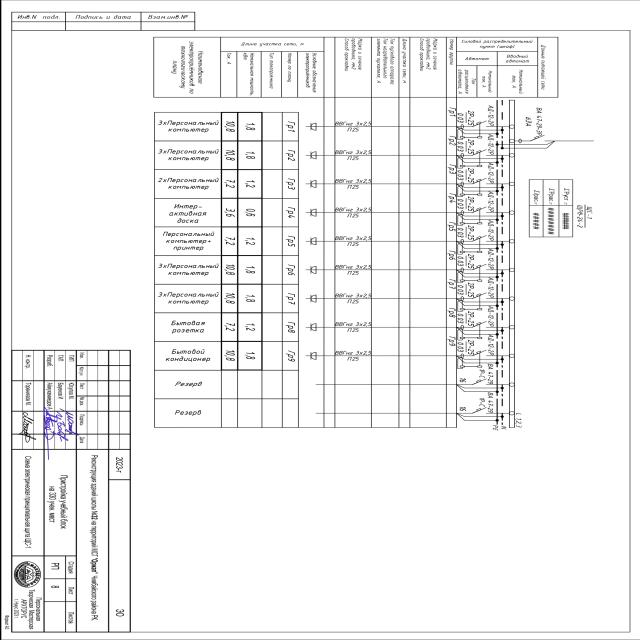-: (456, 276, 494, 300), (456, 190, 494, 213), (456, 162, 494, 185), (456, 305, 494, 328), (456, 248, 494, 271), (457, 220, 495, 242), (456, 334, 494, 356), (456, 134, 494, 156), (456, 104, 494, 126), (458, 392, 495, 413), (457, 364, 493, 384), (524, 106, 544, 136), (574, 205, 584, 229)
QF: (471, 377, 488, 386), (470, 407, 488, 415), (528, 134, 546, 142)
QFD: (456, 350, 490, 370), (456, 321, 490, 341), (454, 292, 488, 312), (456, 263, 490, 283), (456, 234, 490, 254), (456, 206, 490, 226), (456, 178, 490, 198), (456, 149, 490, 169), (454, 120, 488, 140)
